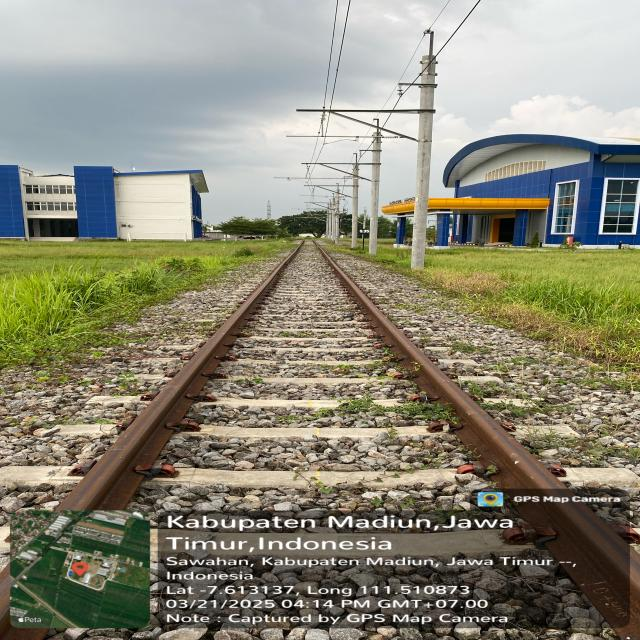rail-detection: (314, 241, 640, 640), (60, 239, 304, 510)
